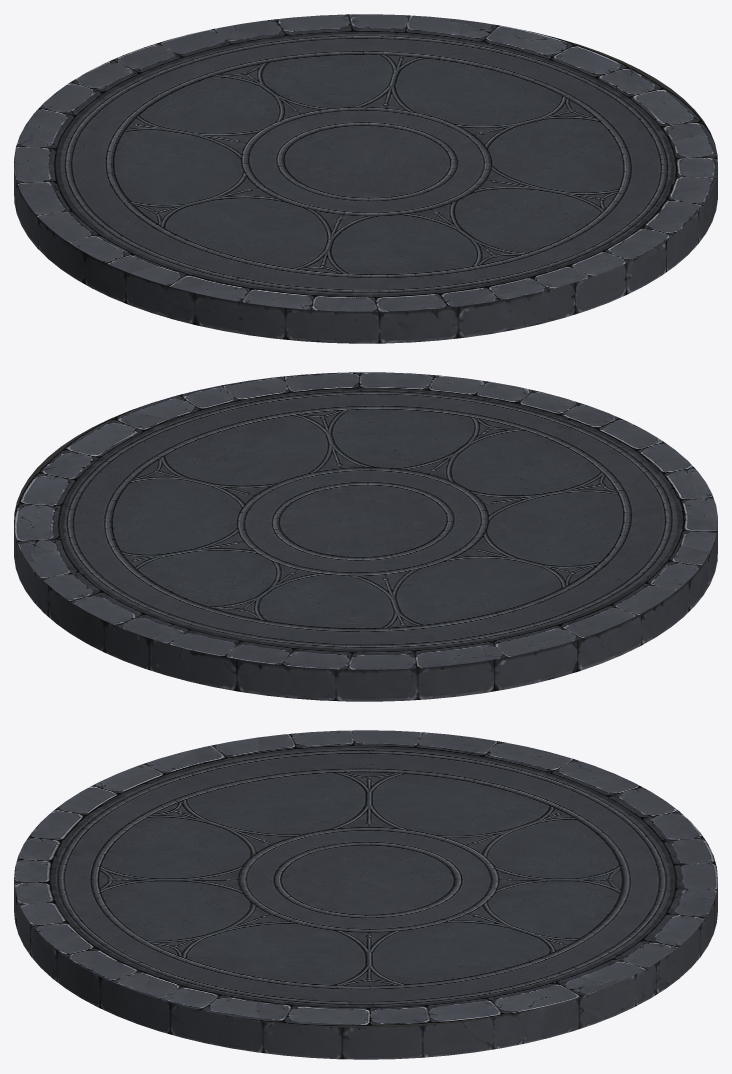
The model's file is Platform Export 1.fbx.
3 views of the same model, one above another, from view 1: azimuth 30°, elevation 25°; view 2: azimuth 150°, elevation 25°; view 3: azimuth 270°, elevation 25° (orthographic).
Visible parts, largest first — view 1: Platform Bot; view 2: Platform Bot; view 3: Platform Bot.
Part boxes in pixels (x1,y1,x2,y2): Platform Bot: [14, 14, 717, 343]; Platform Bot: [14, 372, 717, 701]; Platform Bot: [14, 730, 717, 1059].
Size of the model in its own units: 188 by 9.42 by 188.
